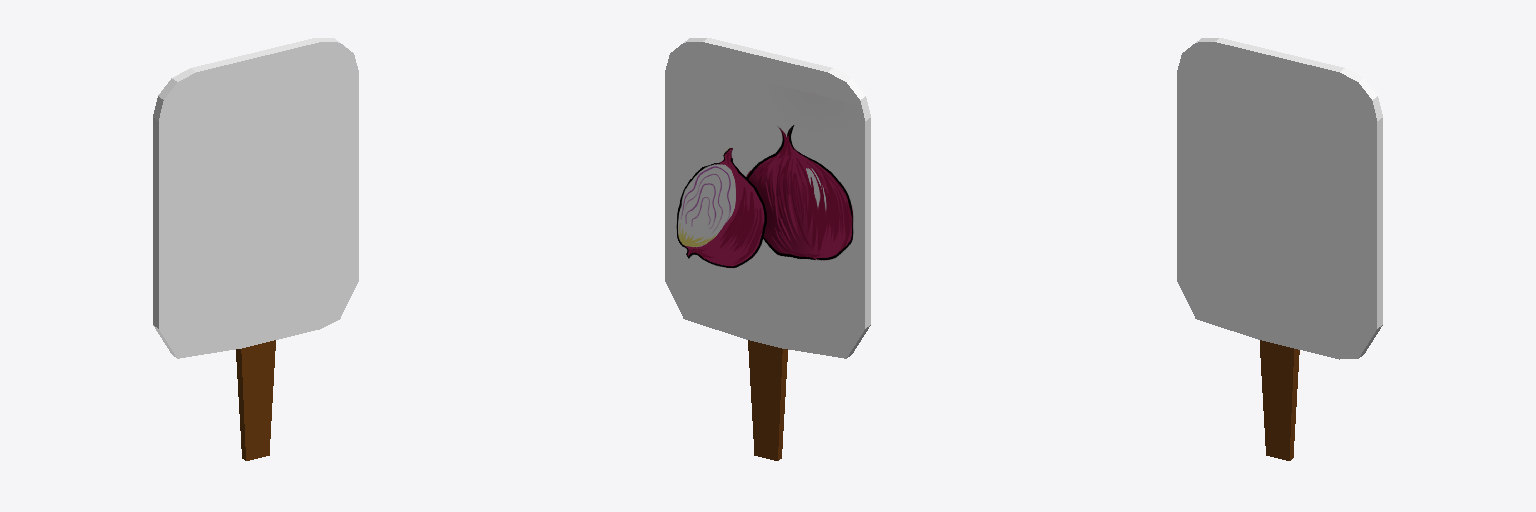
3 renders of one model, left to right at view 1: azimuth 30°, elevation 25°; view 2: azimuth 150°, elevation 25°; view 3: azimuth 330°, elevation 25°, orthographic.
Visible parts, largest first — view 1: pCube1; view 2: pCube1; view 3: pCube1.
Part boxes in pixels (bbox=[...]): pCube1: bbox=[153, 38, 358, 460]; pCube1: bbox=[665, 38, 870, 460]; pCube1: bbox=[1177, 38, 1382, 460].
Bounding box in the file's own units: 0.3932 × 0.753 × 0.0196.
Materials: 1 (1 with a texture image).